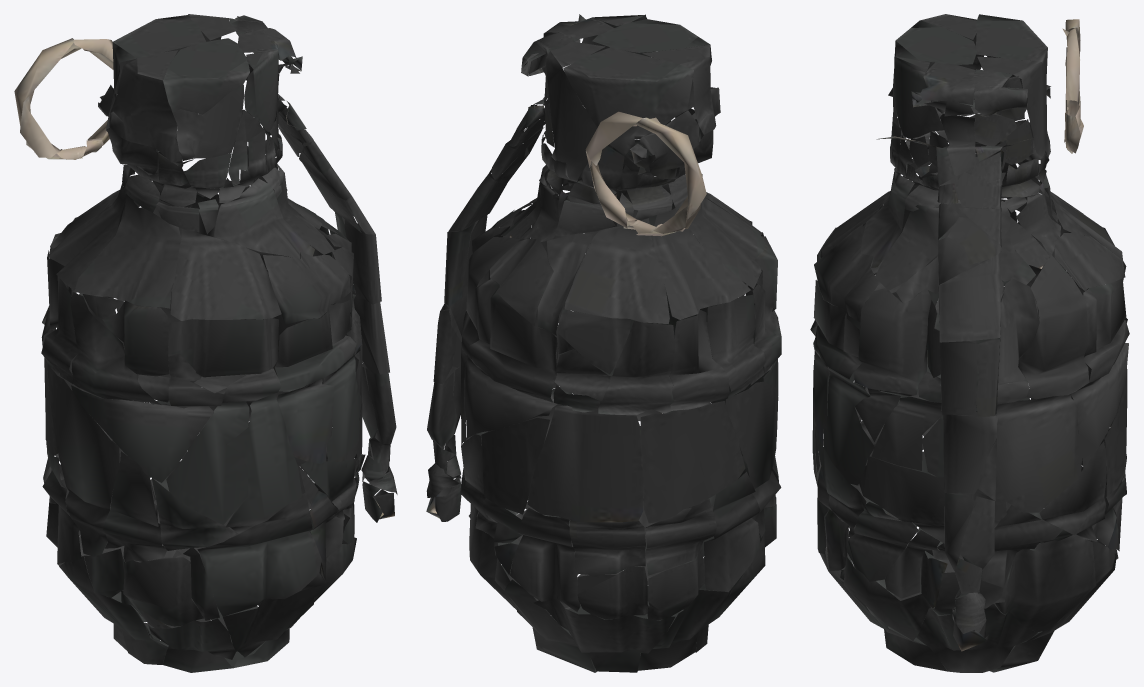
Rendered from smoke-grenade-meshy-low.glb.
3 views of the same model, side by side, from view 1: azimuth 30°, elevation 25°; view 2: azimuth 150°, elevation 25°; view 3: azimuth 270°, elevation 25° (orthographic).
Parts seen in each view (by area): view 1: Mesh_0.013; view 2: Mesh_0.013; view 3: Mesh_0.013.
Part boxes in pixels (<box>): Mesh_0.013: <box>14,14,397,672</box>; Mesh_0.013: <box>426,14,781,672</box>; Mesh_0.013: <box>810,14,1129,672</box>.
Bounding box in the file's own units: 1.11 × 1.9 × 0.934.
Materials: 1 (1 with a texture image).
